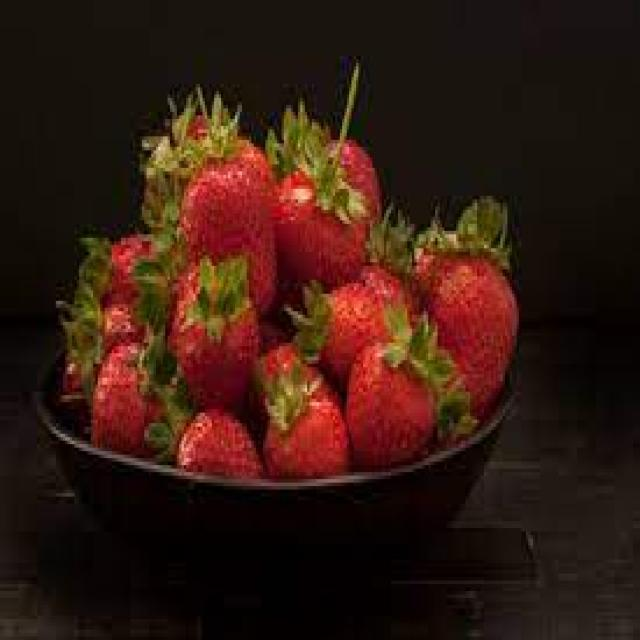strawberry: (419, 191, 529, 432), (174, 112, 280, 289), (335, 321, 450, 458), (173, 248, 254, 408)
